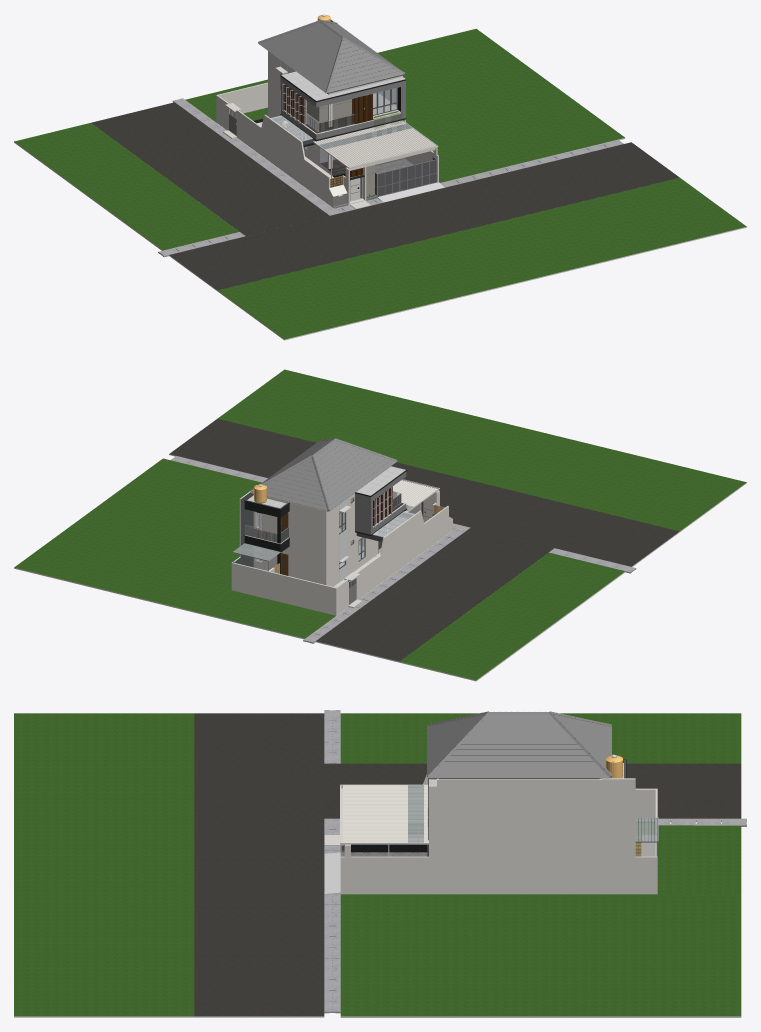
Rendered from rumah.glb.
3 renders of one model, top to bottom at view 1: azimuth 30°, elevation 25°; view 2: azimuth 150°, elevation 25°; view 3: azimuth 270°, elevation 25°, orthographic. The views are drawn at different scales.
Visible parts, largest first — view 1: empty_295, empty_337, empty_2, empty_601, empty_298, empty_405, empty_774, empty_406, empty_408, empty_228, empty_738, empty_1407 (+3 smaller); view 2: empty_295, empty_337, empty_2, empty_601, empty_298, empty_228, empty_405, empty_19, empty_4, empty_408; view 3: empty_295, empty_337, empty_2, empty_601, empty_298, empty_745, empty_1045, empty_623.
Boxes of the visible parts, x1,y1,x2,y2 form: empty_295: [14, 28, 746, 339]; empty_337: [91, 102, 679, 290]; empty_2: [14, 14, 746, 340]; empty_601: [229, 20, 436, 196]; empty_298: [158, 98, 623, 257]; empty_405: [281, 77, 405, 208]; empty_774: [360, 157, 436, 198]; empty_406: [283, 83, 375, 196]; empty_408: [281, 71, 405, 100]; empty_228: [236, 71, 406, 180]; empty_738: [350, 94, 372, 177]; empty_1407: [283, 84, 305, 123]; empty_295: [14, 369, 746, 680]; empty_337: [169, 418, 679, 661]; empty_2: [14, 454, 746, 681]; empty_601: [233, 438, 432, 604]; empty_298: [170, 456, 636, 643]; empty_228: [244, 466, 406, 581]; empty_405: [355, 472, 453, 534]; empty_19: [234, 492, 413, 567]; empty_4: [256, 499, 364, 582]; empty_408: [247, 466, 405, 507]; empty_295: [14, 713, 741, 1016]; empty_337: [194, 713, 741, 1016]; empty_2: [14, 754, 741, 1017]; empty_601: [340, 711, 657, 856]; empty_298: [324, 710, 746, 1013]; empty_745: [408, 785, 658, 842]; empty_1045: [324, 852, 340, 893]; empty_623: [351, 844, 427, 852].
Bounding box in the file's own units: 44.61 × 10.7 × 45.09.
48 materials, 21 textured.
